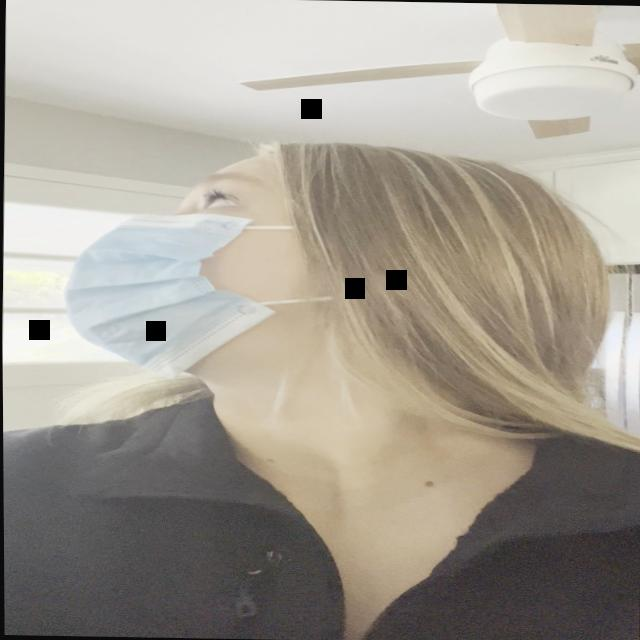Mask: (57, 150, 339, 380)
